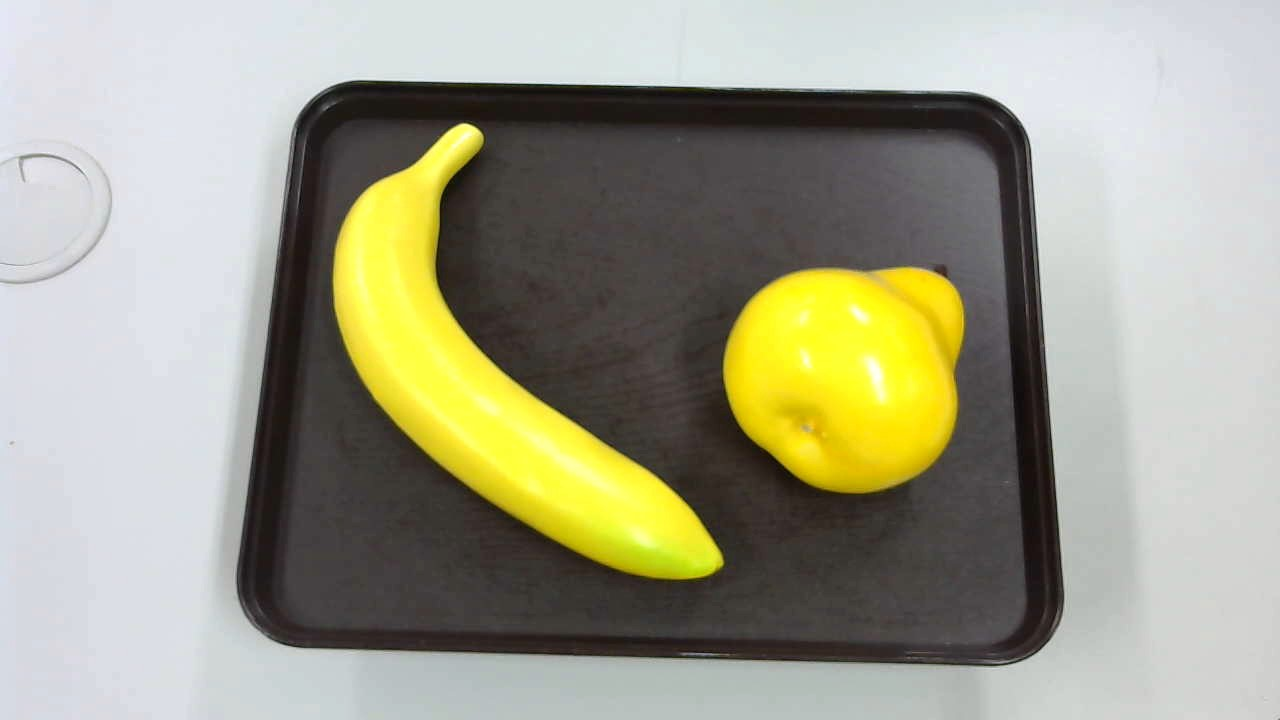banana: (326, 118, 731, 590)
yellow pear: (719, 263, 972, 497)
